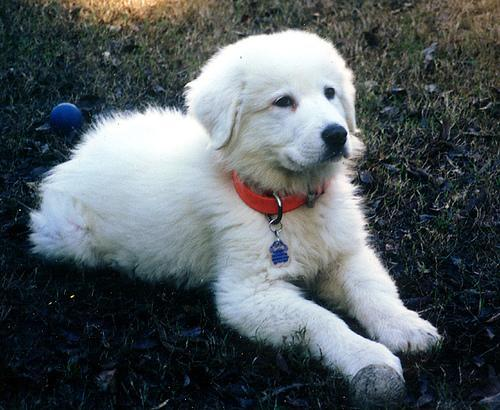Great_Pyrenees: (22, 26, 445, 404)
